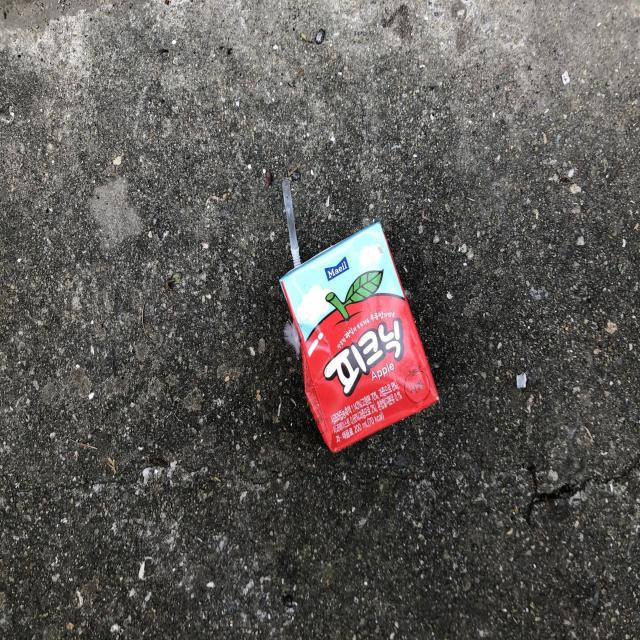paperpack: (280, 222, 439, 452)
